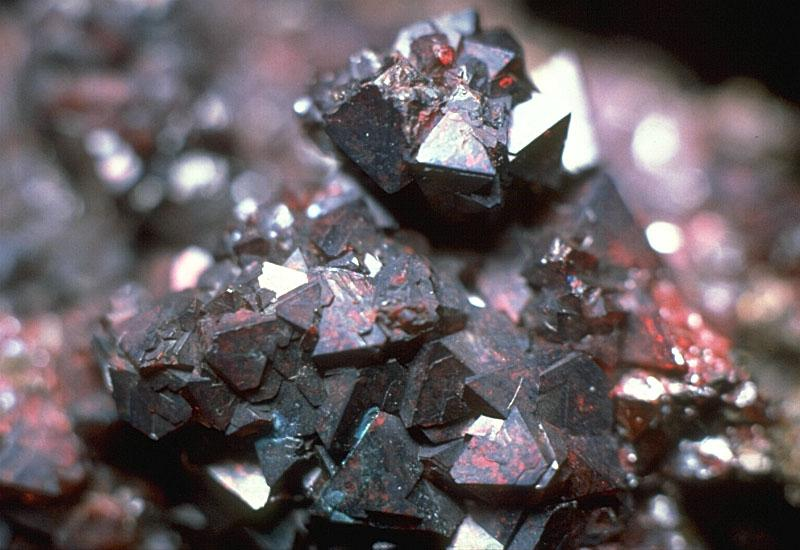cuprite: (95, 176, 627, 536), (312, 9, 537, 215)
